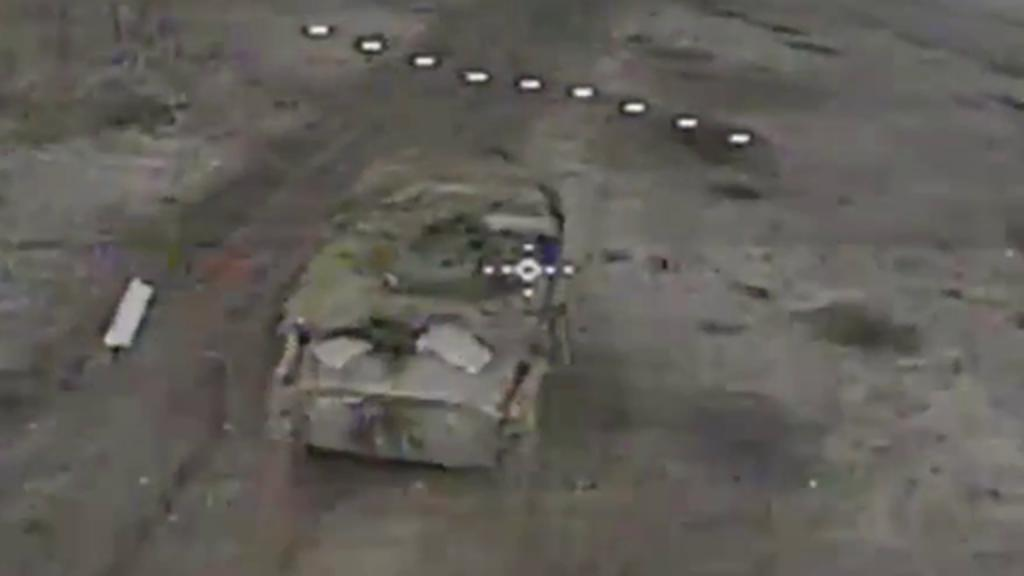APC-IFV: (266, 132, 586, 480)
